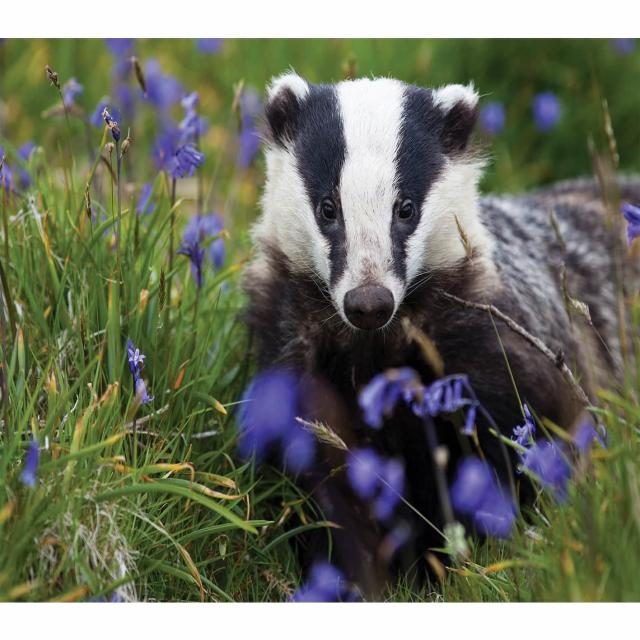Badger: (241, 63, 564, 411)
